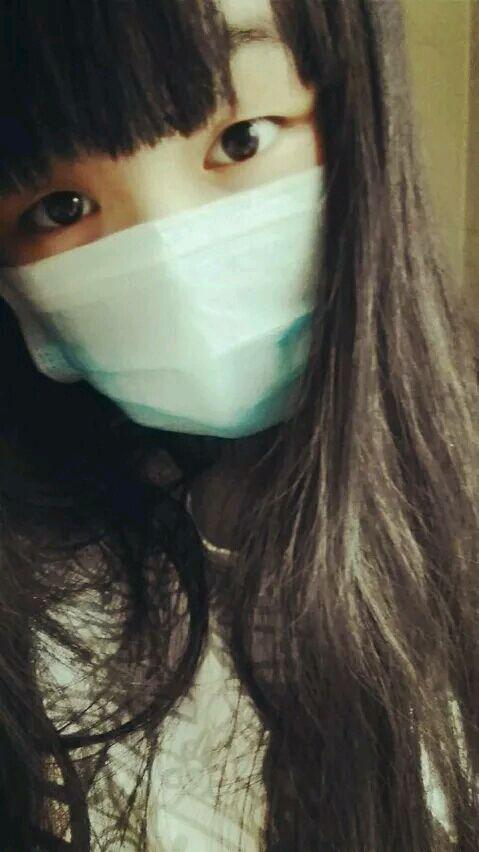OK: (23, 20, 419, 416)
